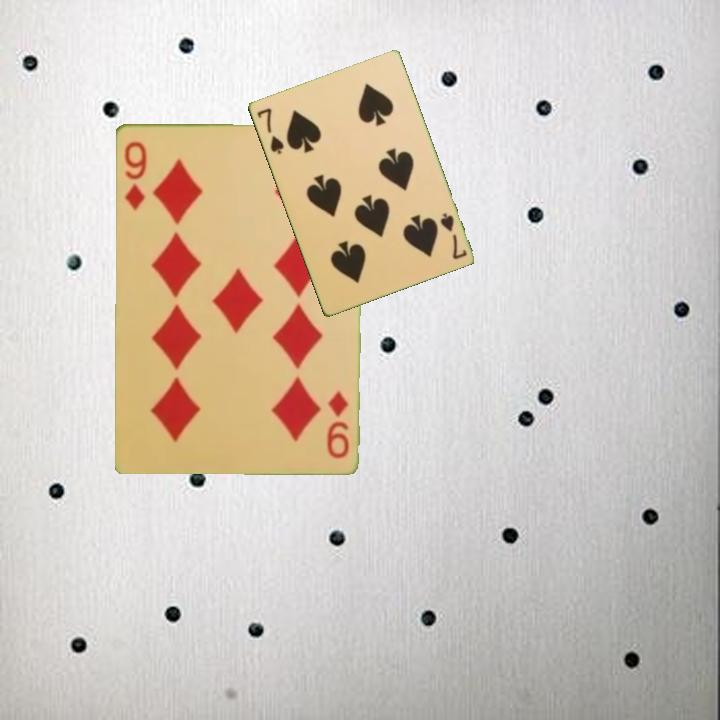7s: (253, 104, 286, 157), (436, 209, 469, 262)
9d: (120, 137, 149, 213), (322, 387, 351, 461)
